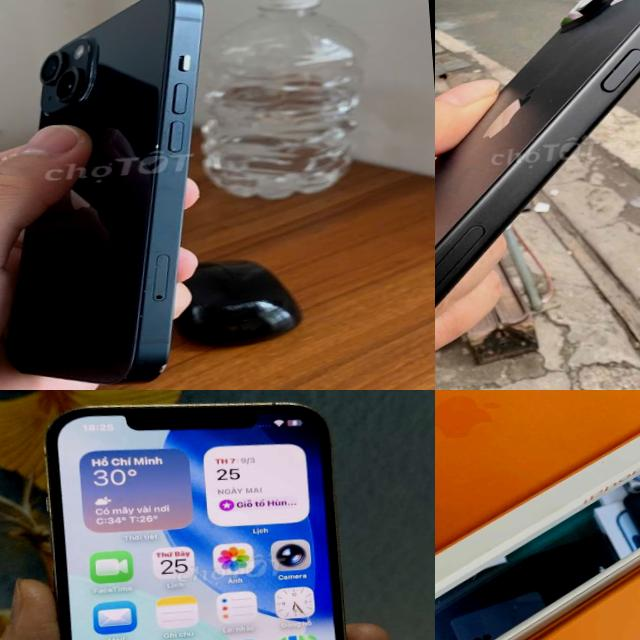gen_12_13: (0, 0, 248, 390), (23, 390, 369, 640)
gen_15: (435, 0, 640, 390)
scratch: (138, 342, 184, 380)
